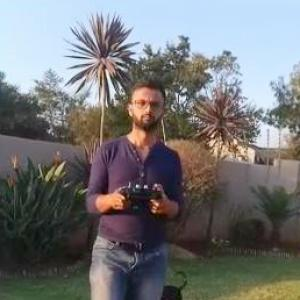follow: (77, 75, 179, 299)
